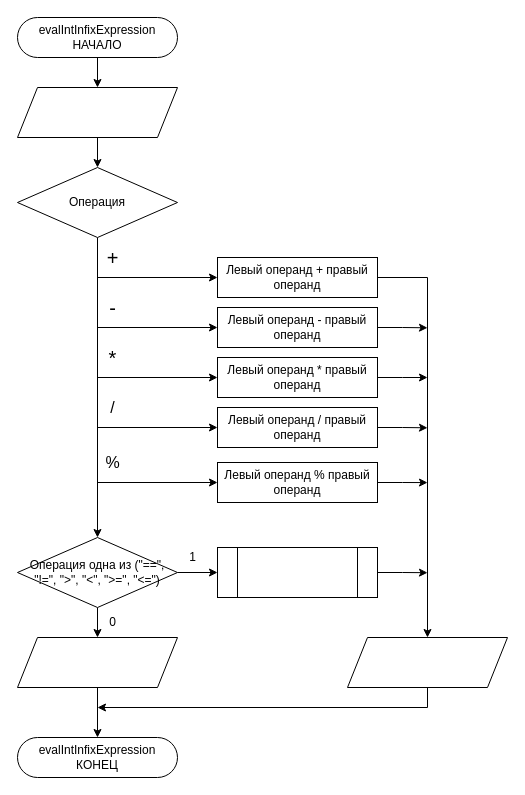
This 525x795 diagram has some shape labels left out. Each missing label, with the centre of its shape:
boolToBooleanObj: the point at 297,572
Вернуть ошибку "unknown operator": the point at 97,662
Вернуть результат: the point at 427,662
Получить infix expression: the point at 97,112
